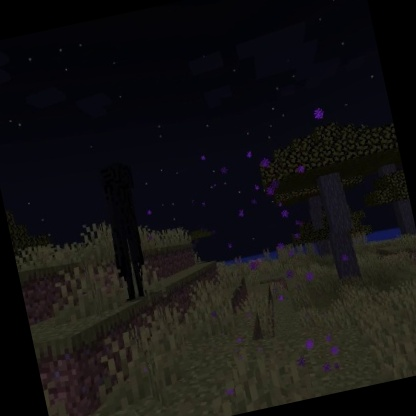enderman: (92, 157, 159, 304)
